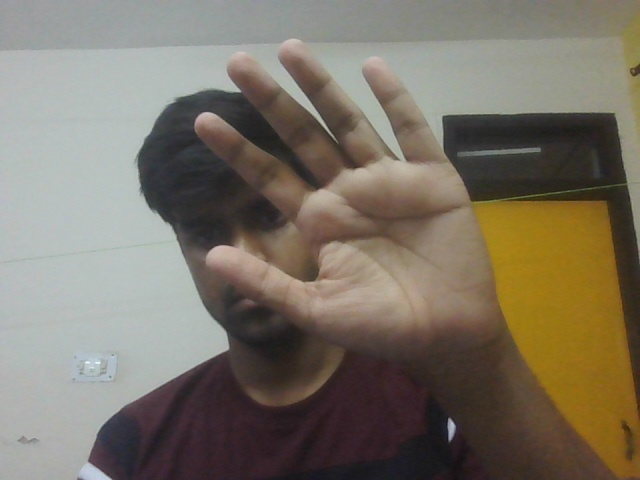hello: (186, 28, 526, 394)
